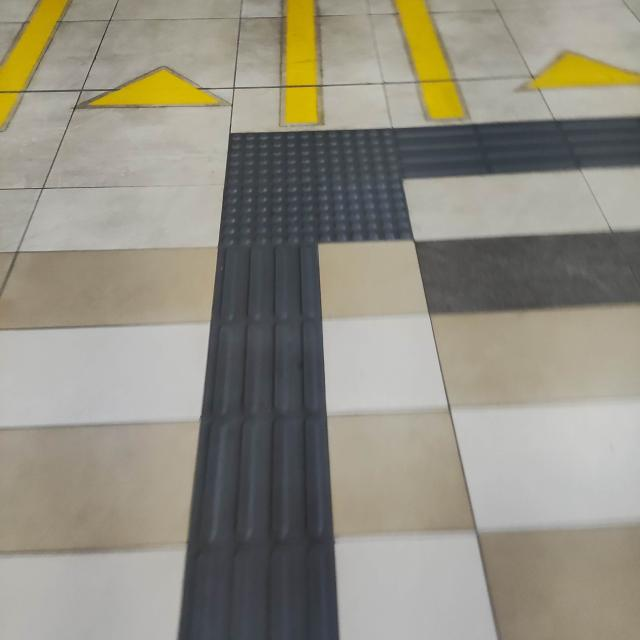kanan: (208, 111, 506, 282)
